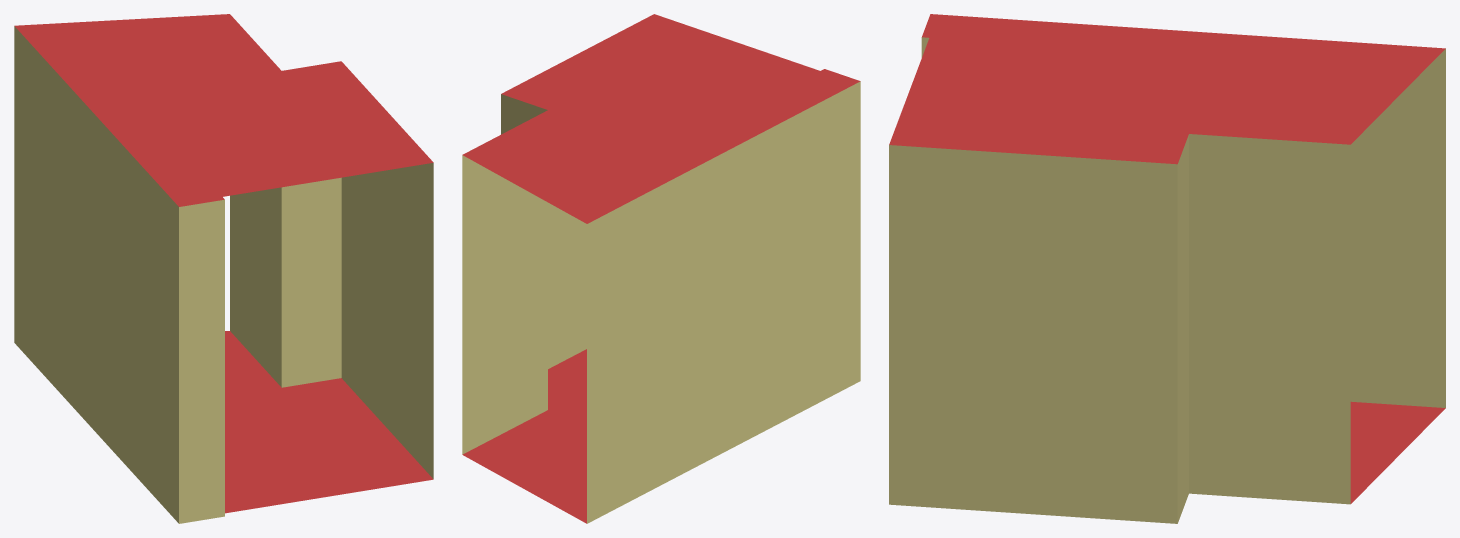
The picture shows the model from 3 angles, left to right: view 1: azimuth 30°, elevation 25°; view 2: azimuth 150°, elevation 25°; view 3: azimuth 270°, elevation 25°; orthographic projection. The views are drawn at different scales.
Size of the model in its own units: 6.67 by 10.45 by 7.45.
